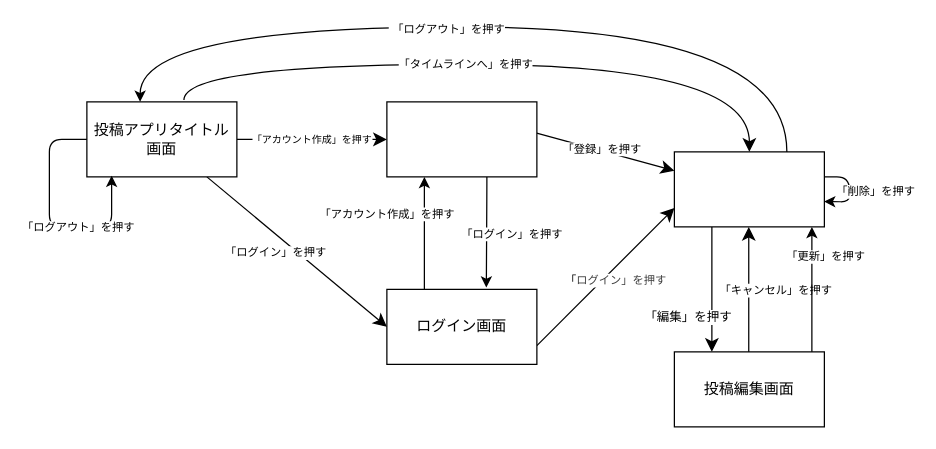
Image size: 936x449. Some labels were removed from this diagram. Here are the shapes that lost their labels. From the top down, the centre of each, then its label:
At [461,139]: "アカウント作成画面".
At [748,189]: "投稿一覧画面".
